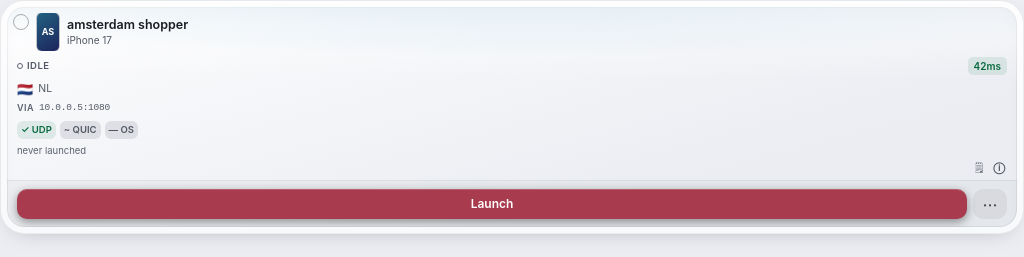
Test: B8 — every truncating text is titled › the via row falls back to host:port (mono) when the proxy has no label, and the 🗒 glyph opens the note editor
Expected: the element showing "via 10.0.0.5:1080" is shown, [17,102,110,113]
What coordinates should you click on to do the following:
click the button "🗒"
I would click on:
 (979, 168)
Its box is [971,160,987,176].
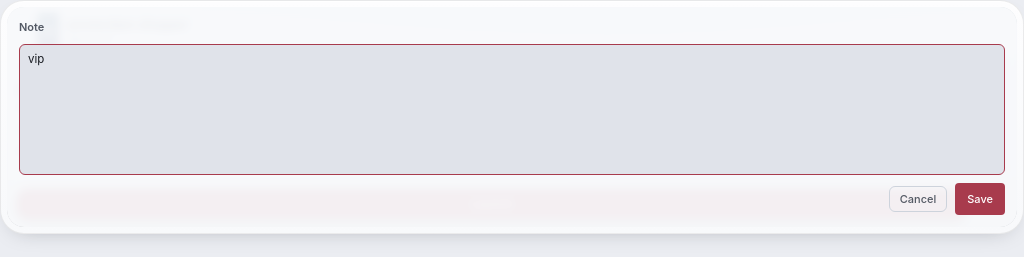
Expected: the text box named "Note for amsterdam shopper" is shown, [19,44,1005,175]
